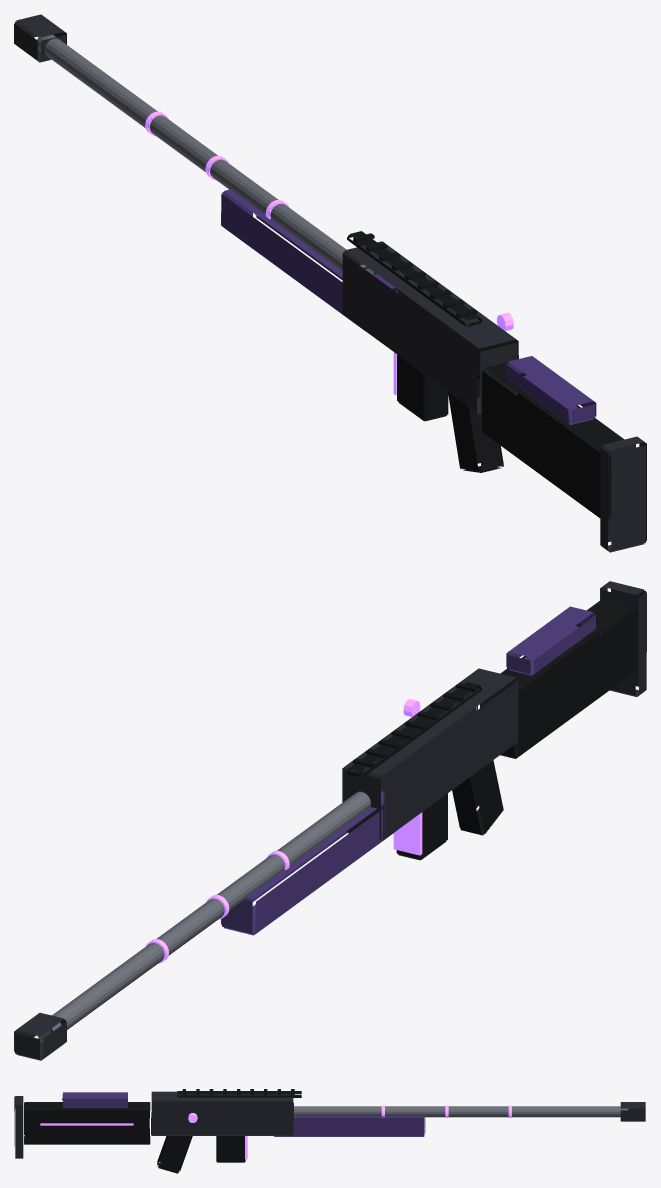
The model's file is sniper_lod.glb.
3 views of the same model, one above another, from view 1: azimuth 30°, elevation 25°; view 2: azimuth 150°, elevation 25°; view 3: azimuth 270°, elevation 25° (orthographic). The views are drawn at different scales.
Parts seen in each view (by area): view 1: Body, Magazine; view 2: Body, Magazine; view 3: Body, Magazine.
Part boxes in pixels (box(x1,y1,x2,y2)): Body: box(14, 14, 646, 552); Magazine: box(393, 352, 448, 421); Body: box(14, 581, 646, 1060); Magazine: box(393, 793, 447, 860); Body: box(14, 1089, 645, 1173); Magazine: box(216, 1136, 247, 1162).
Bounding box in the file's own units: 0.103 × 0.2076 × 1.5.
